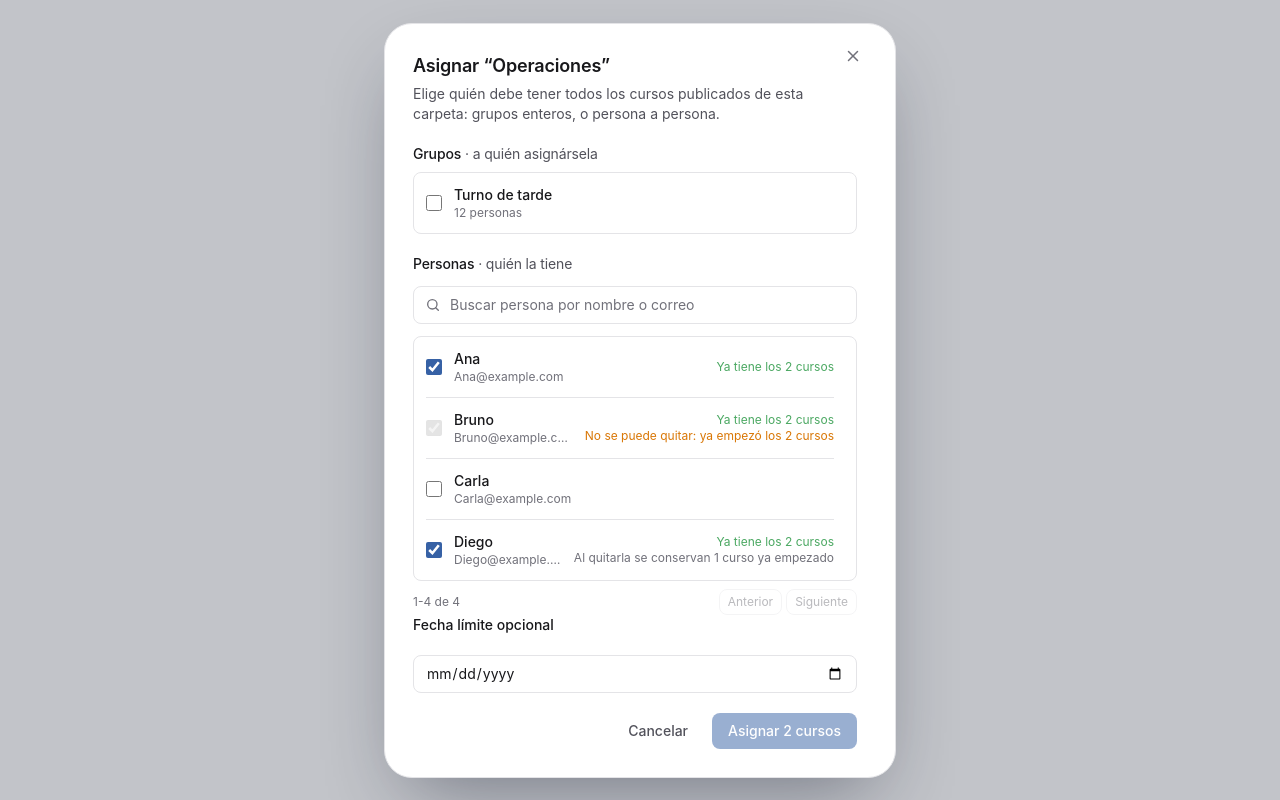
Test case: FolderAssignmentDialog › groups › never lets the group box pass for a state, even sharing the row shape
The image size is (1280, 800).
Expected: the text "Ana" is shown, x1=454 y1=350 x2=480 y2=366
Expected: the checkbox labelled "Ana Ana@example.com Ya tiene los 2 cursos" is checked, x1=426 y1=358 x2=442 y2=374
Click the checkbox labelled "Turno de tarde 12 personas". click: click(434, 202)
box: x1=426 y1=194 x2=442 y2=210
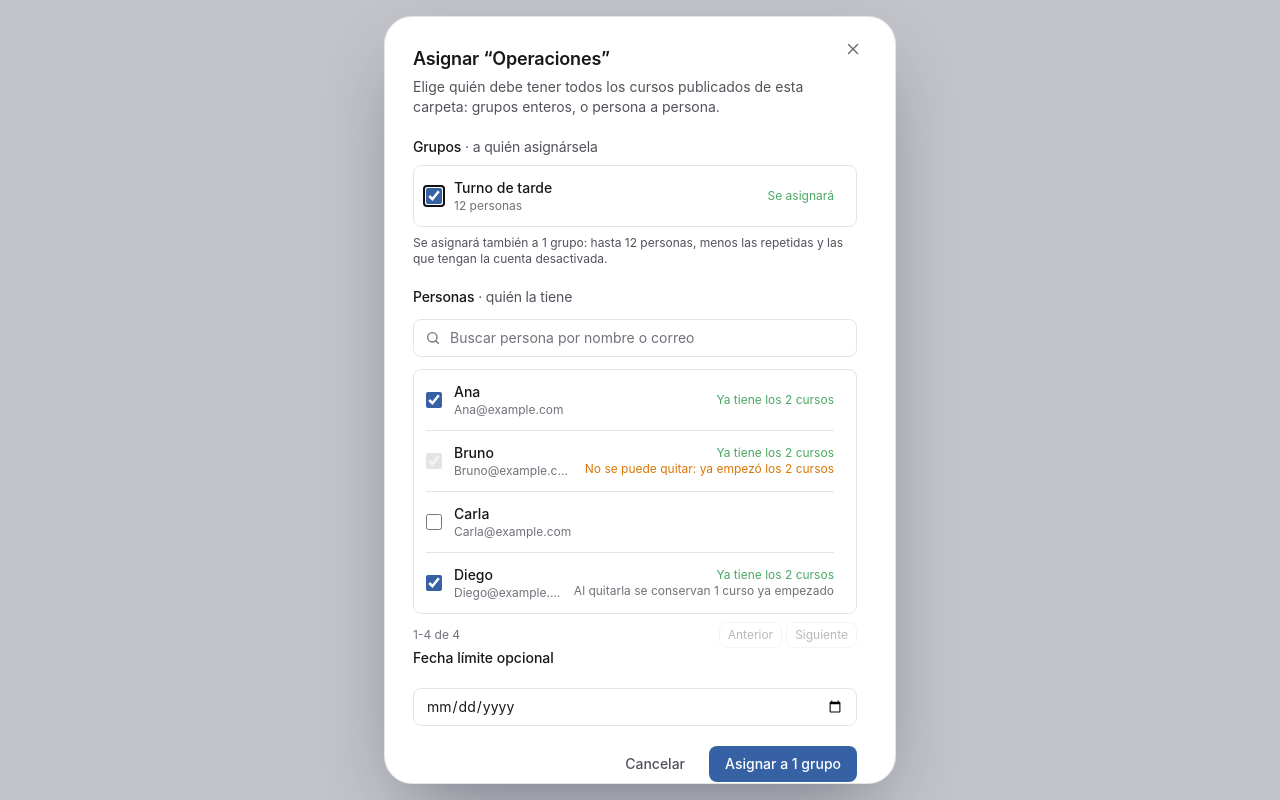
Expected: the checkbox labelled "Turno de tarde 12 personas Se asignará" is checked, x1=426 y1=188 x2=442 y2=204
Expected: the text "hasta 12 personas" is shown, x1=413 y1=235 x2=843 y2=266
